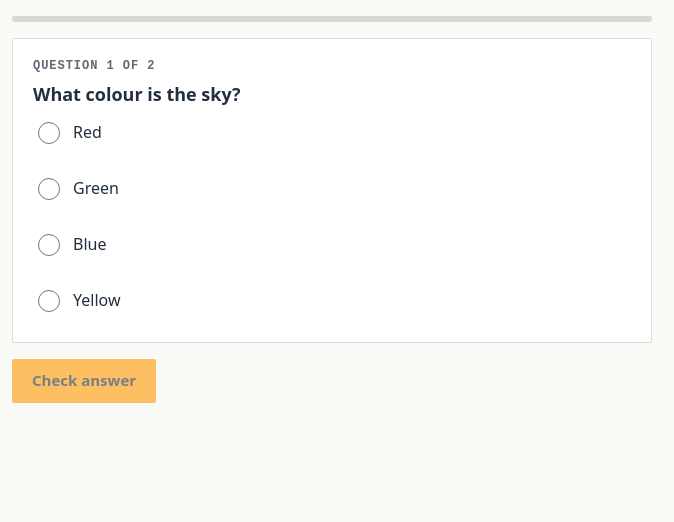
Test: Knowledge check › fills the progress bar as answers are checked, then gives the score
Click the radio button labelled "Blue": (49, 246) [38, 234, 60, 256]
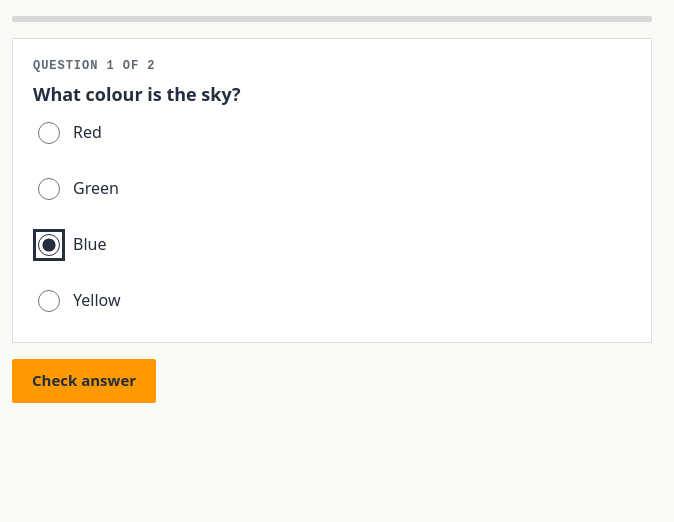
Click the button "Check answer": (84, 381) [12, 359, 156, 403]
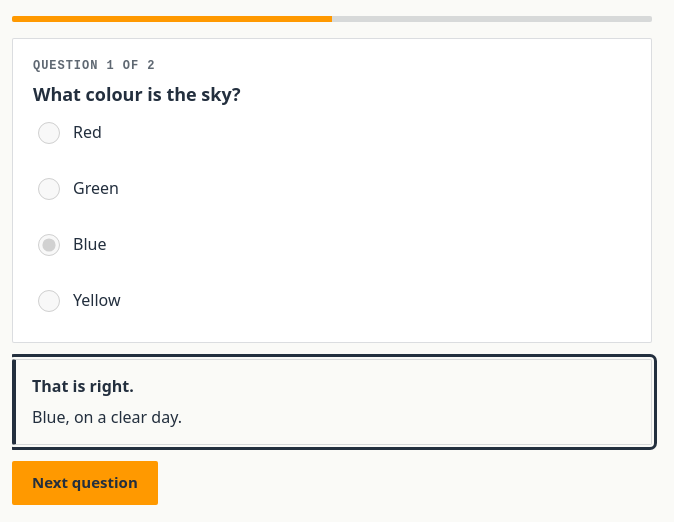
Click the button "Next question": (85, 483) [12, 461, 158, 505]
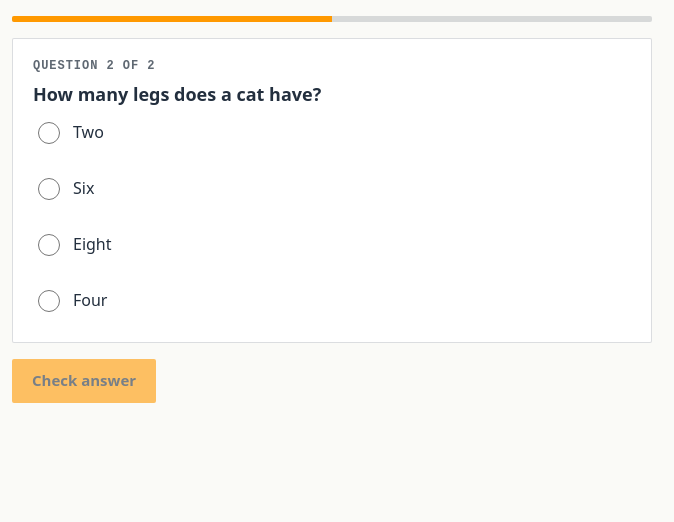
Now the text "Question 2 of 2" is shown, box [33, 59, 155, 73]
Click the radio button labelled "Two": (49, 134) [38, 122, 60, 144]
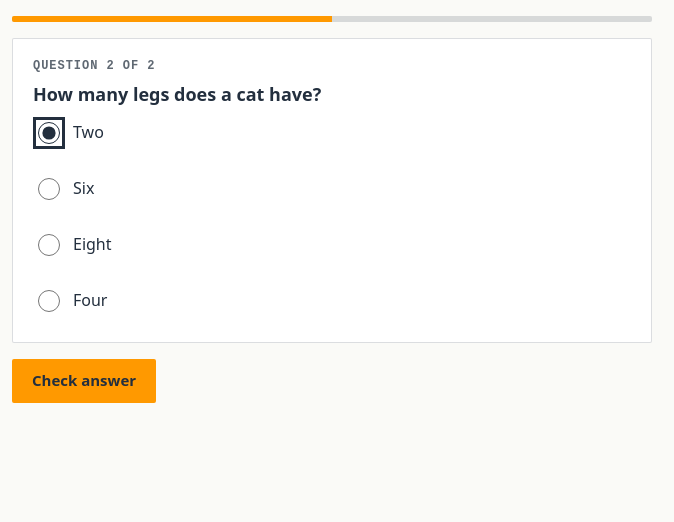
Click the button "Check answer": (84, 381) [12, 359, 156, 403]
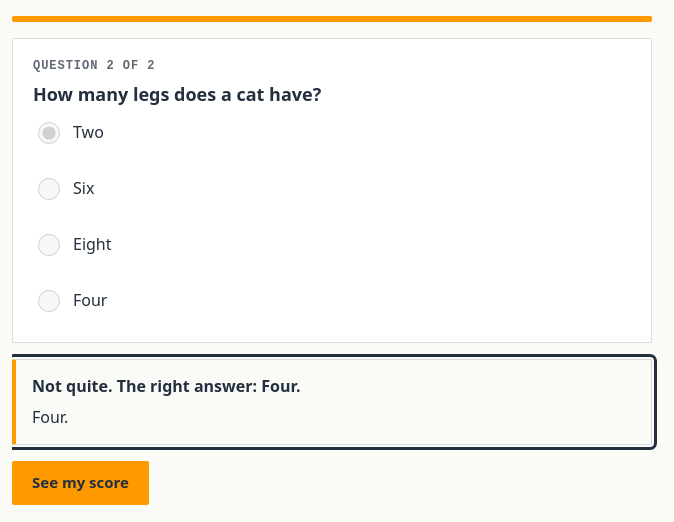
Click the button "See my score": (80, 483) [12, 461, 149, 505]
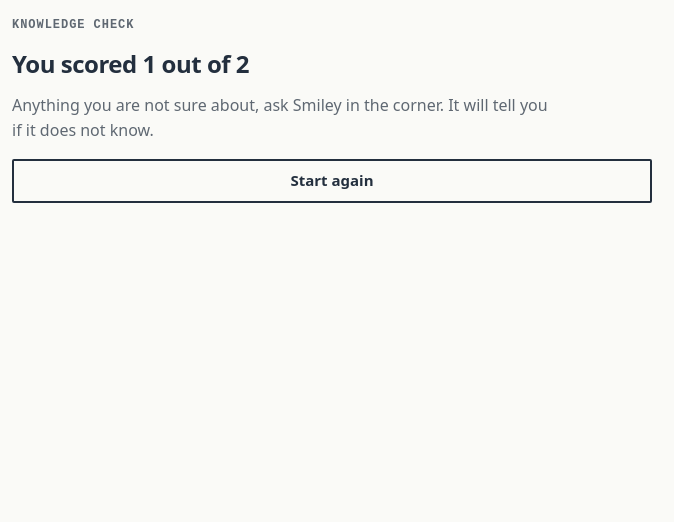
Now the heading "You scored 1 out of 2" is shown, box [12, 47, 249, 80]
